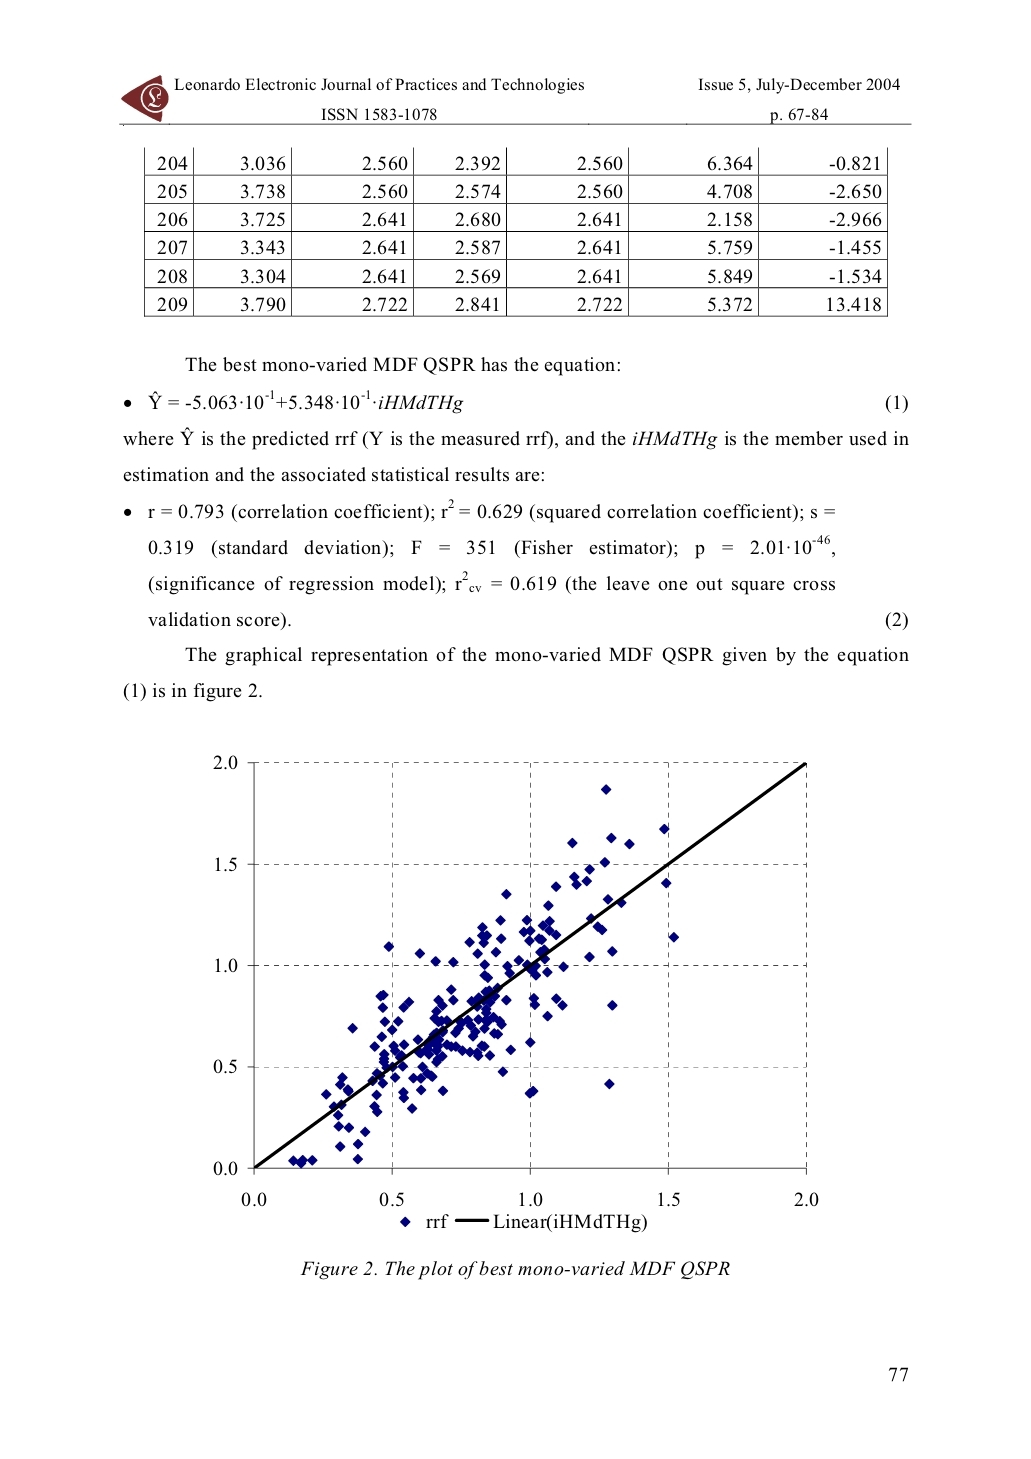Table: (144, 146, 887, 317)
figure: (213, 755, 818, 1206), (121, 75, 168, 120)
formula: (124, 389, 907, 414)
